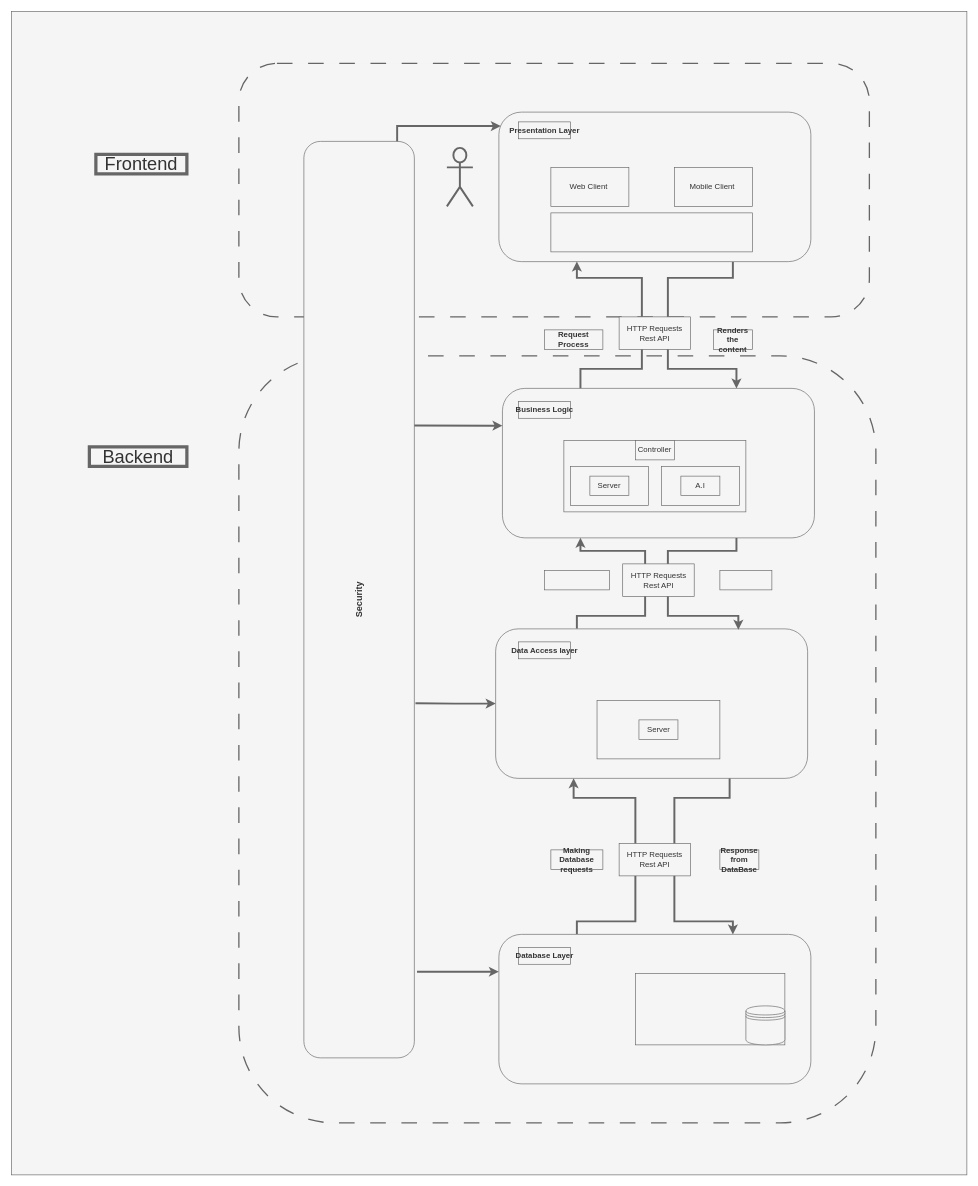
The diagram is 978 pixels wide and 1186 high, and some of its shapes have lost their labels. The box of each missing label's shape, as (x1, y1, x2, y2) in pixels:
Asking model to provide data: (544, 570, 609, 590)
Database Model: (635, 973, 785, 1045)
Returning data request: (719, 570, 772, 590)
User/Client: (446, 147, 474, 207)
View: (550, 212, 752, 252)
